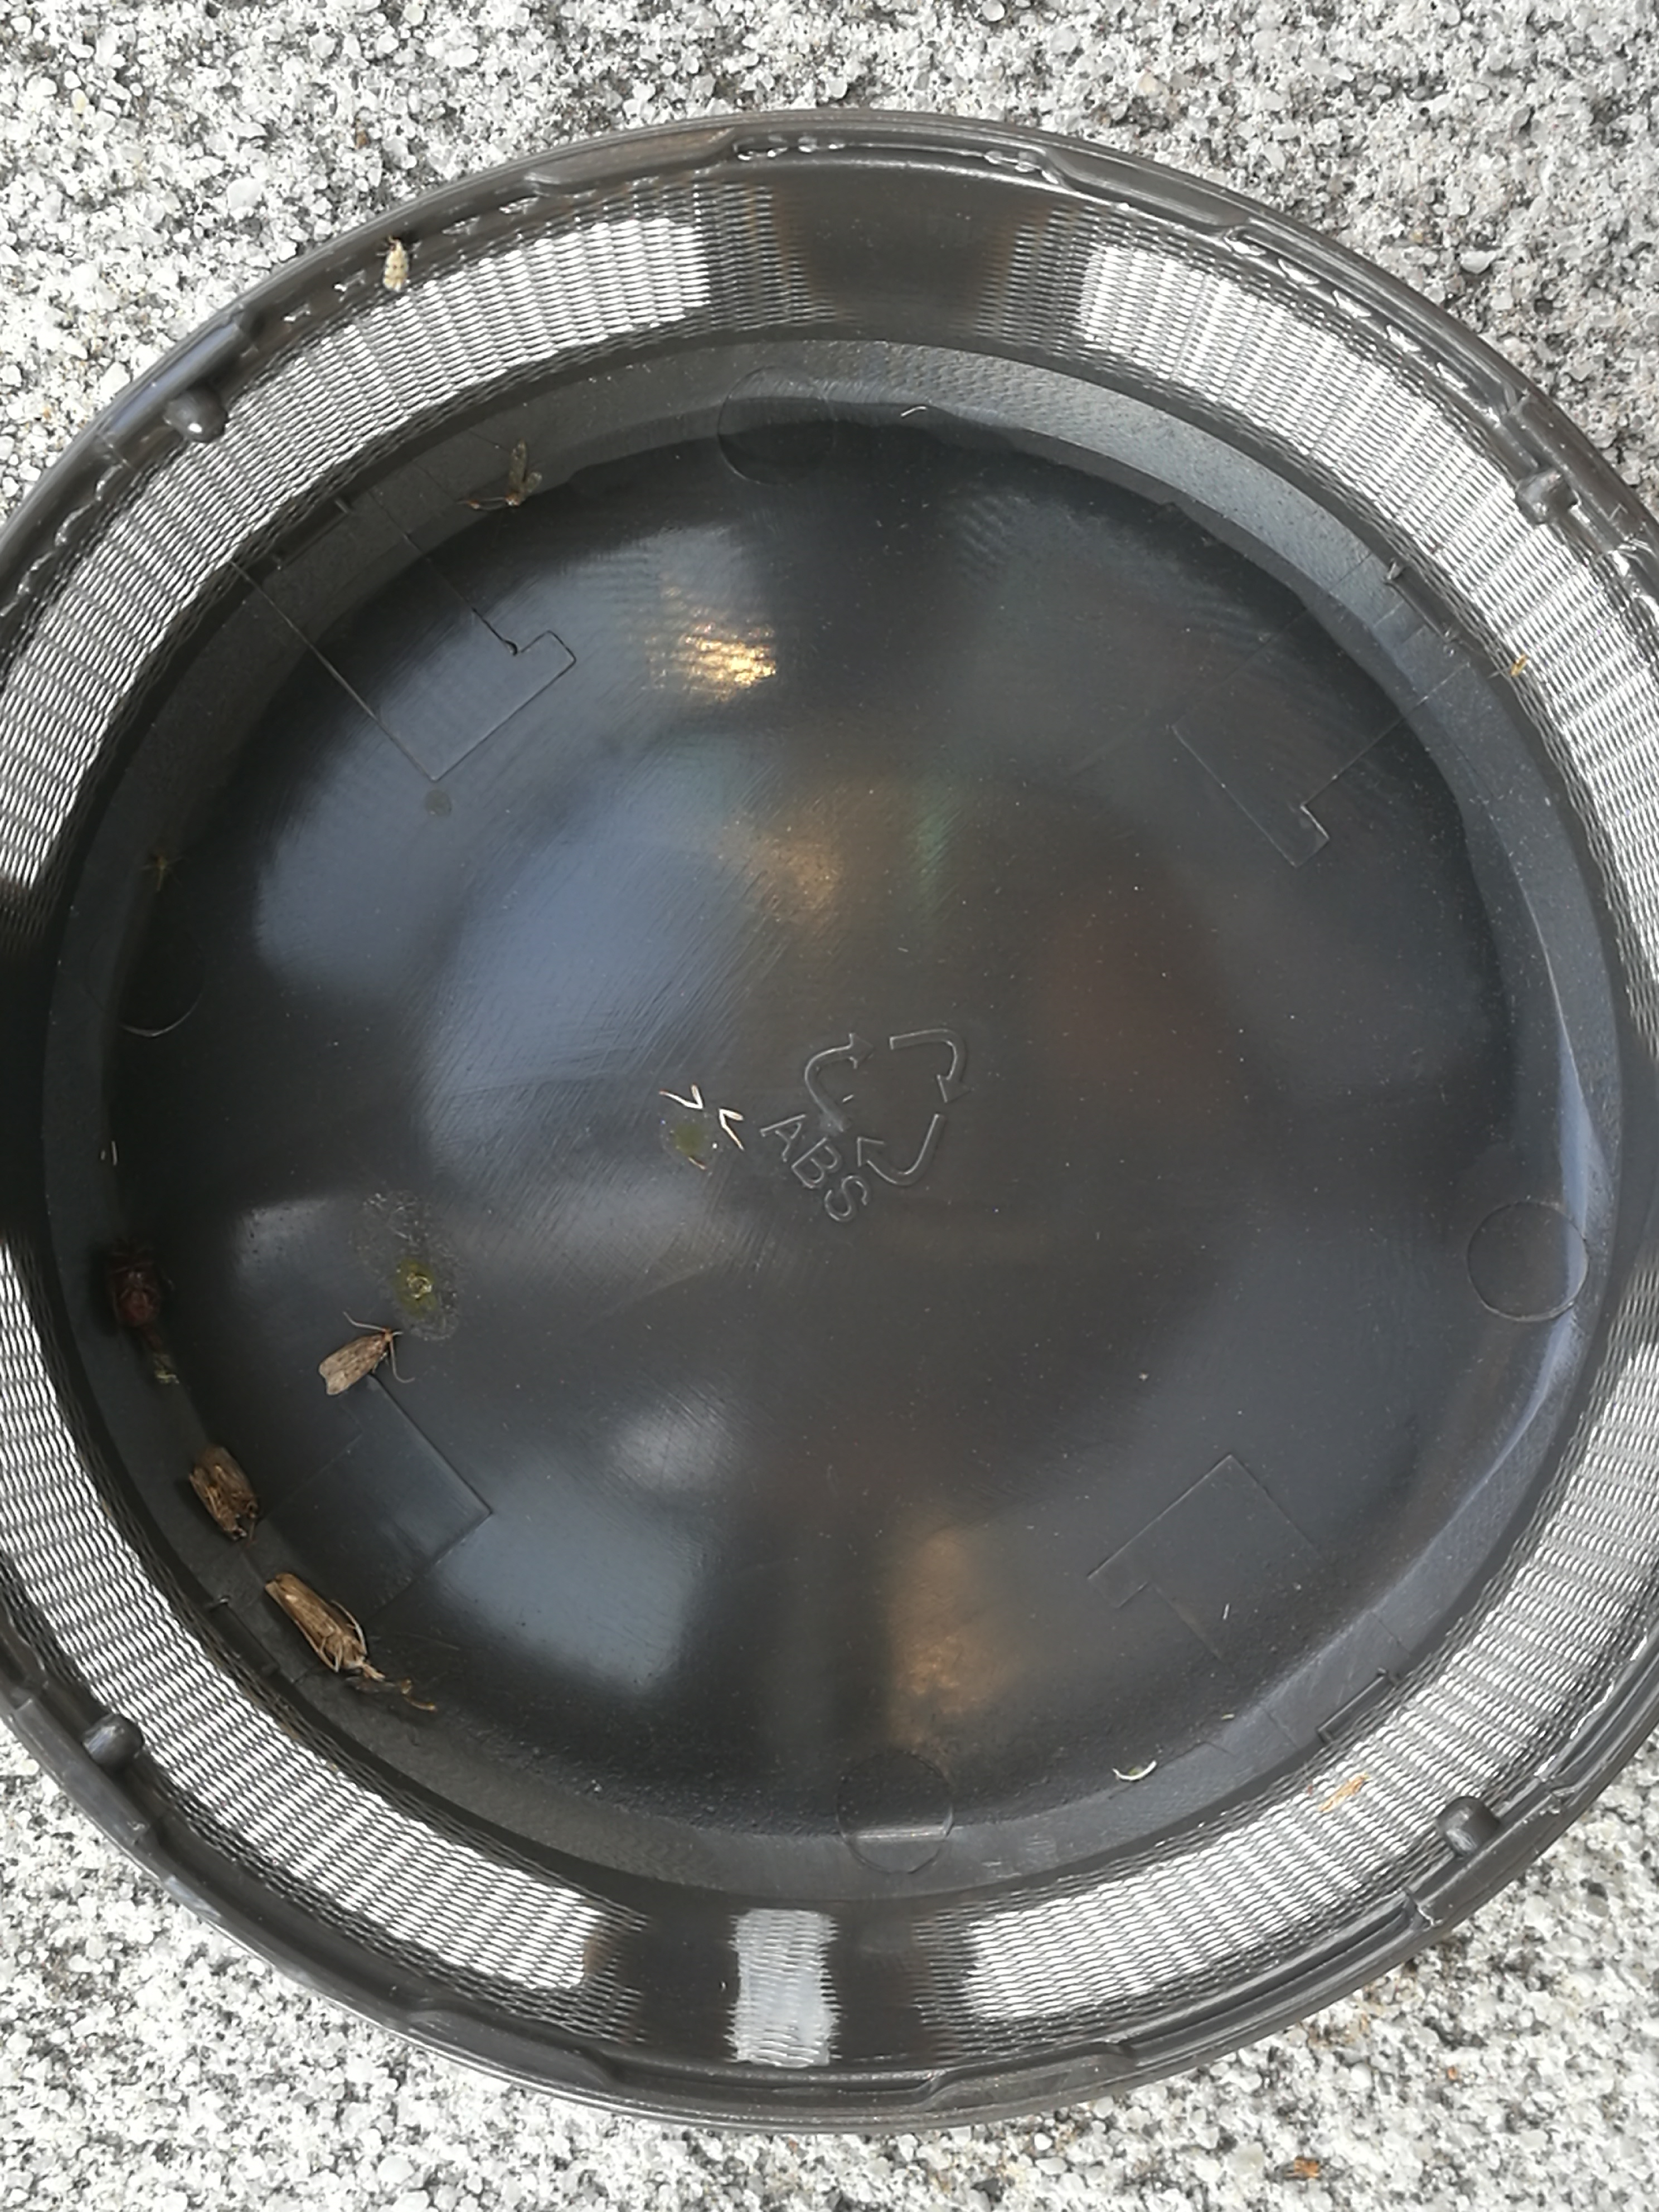beetle: (105, 1237, 160, 1325)
mosquito: (265, 1573, 366, 1670), (188, 1468, 244, 1545), (206, 1449, 256, 1517)
moth: (321, 1331, 396, 1395), (383, 237, 410, 289)
